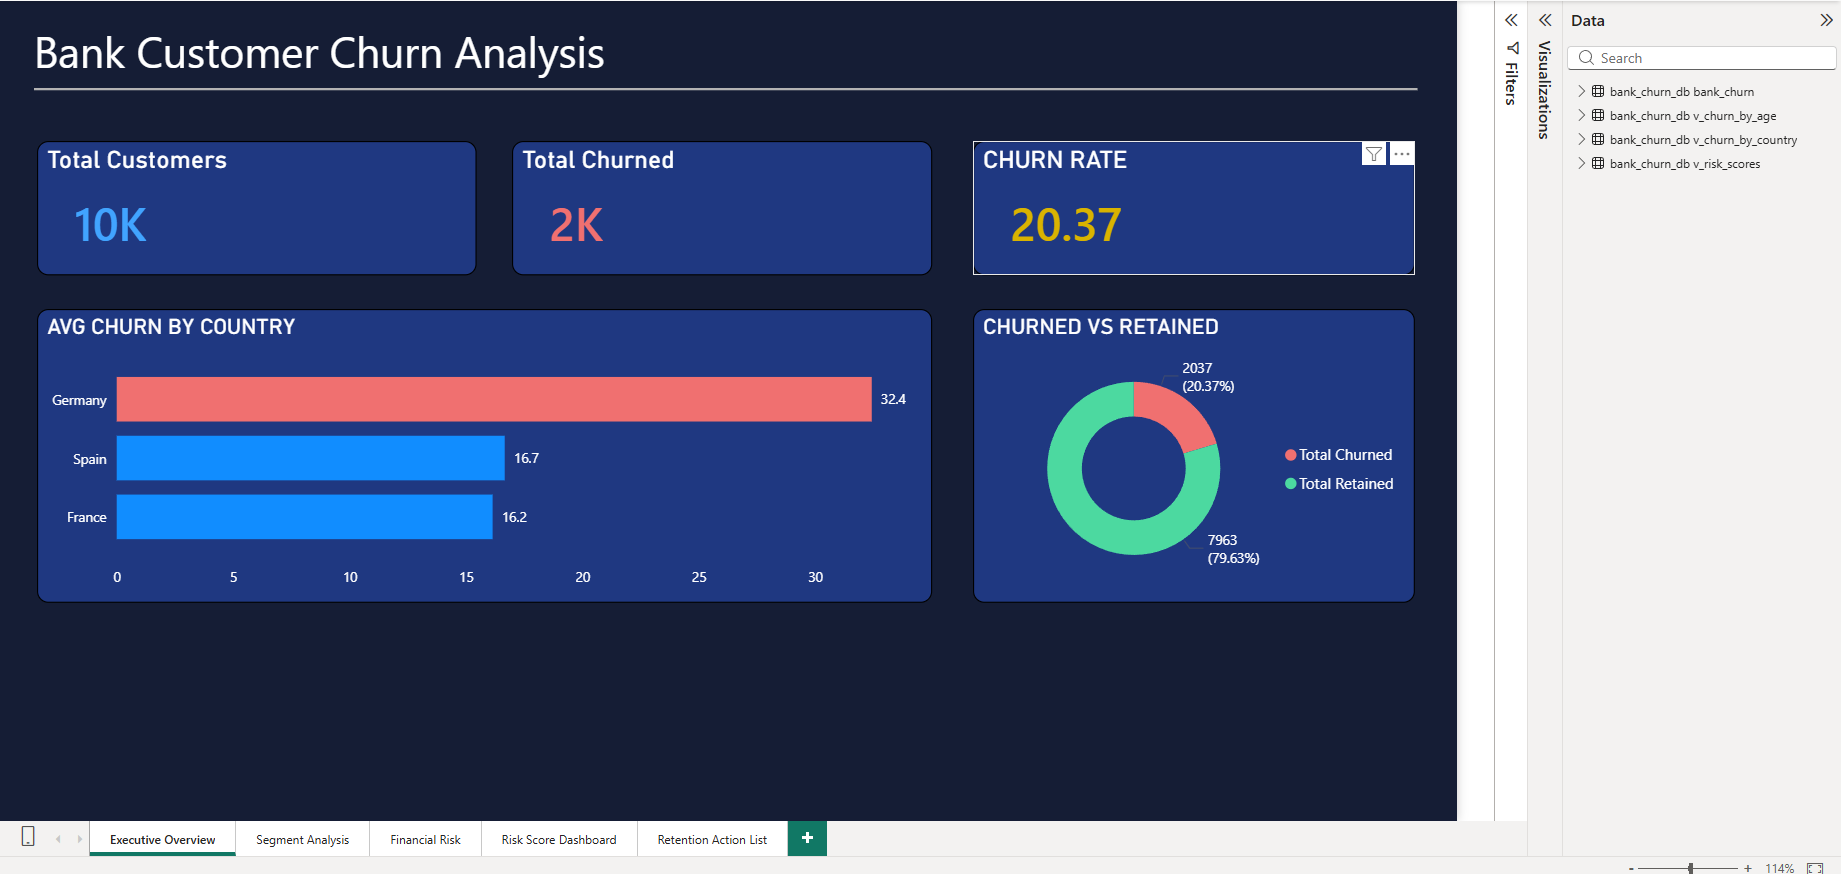

The dashboard page shown, as its layout file describes it:
{"tool":"powerbi","page":{"name":"Executive Overview","canvas":[1280,720],"ordinal":0},"visuals":[{"type":"cardVisual","title":"Total Customers","fields":{"Data":["bank_churn_db bank_churn.Total Customers"]},"box":[33.6,122.7,386.4,117.9],"z":0},{"type":"cardVisual","title":"Total Churned","fields":{"Data":["bank_churn_db bank_churn.Total Churned"]},"box":[450.6,122.7,369.1,117.9],"z":1000},{"type":"cardVisual","title":"CHURN RATE","fields":{"Data":["bank_churn_db bank_churn.Churn Rate"]},"box":[855.3,122.7,388.3,117.9],"z":2000},{"type":"clusteredBarChart","title":"AVG CHURN BY COUNTRY","fields":{"Category":["bank_churn_db v_churn_by_country.country"],"Y":["Avg(bank_churn_db v_churn_by_country.churn_rate_pct)"]},"box":[33.6,270.4,786.2,257.9],"z":3000},{"type":"donutChart","title":"CHURNED VS RETAINED","fields":{"Y":["bank_churn_db bank_churn.Total Churned","bank_churn_db bank_churn.Total Retained"]},"box":[855.3,270.4,388.3,257.9],"z":4000},{"type":"textbox","box":[25.9,14.4,514.9,64.2],"z":5000},{"type":"shape","box":[30.7,39.3,1214.8,75.7],"z":6000}]}

Visuals, with their boxes on the page's 1280x720 design canvas (x1, y1, x2, y2). These are canvas units, not pixel positions in the 1841x874 screenshot, which may show the page scaled, cropped or inside an application window:
"Total Customers" cardVisual: {"x1": 34, "y1": 123, "x2": 420, "y2": 241}
"Total Churned" cardVisual: {"x1": 451, "y1": 123, "x2": 820, "y2": 241}
"CHURN RATE" cardVisual: {"x1": 855, "y1": 123, "x2": 1244, "y2": 241}
"AVG CHURN BY COUNTRY" clusteredBarChart: {"x1": 34, "y1": 270, "x2": 820, "y2": 528}
"CHURNED VS RETAINED" donutChart: {"x1": 855, "y1": 270, "x2": 1244, "y2": 528}
textbox: {"x1": 26, "y1": 14, "x2": 541, "y2": 79}
shape: {"x1": 31, "y1": 39, "x2": 1246, "y2": 115}
